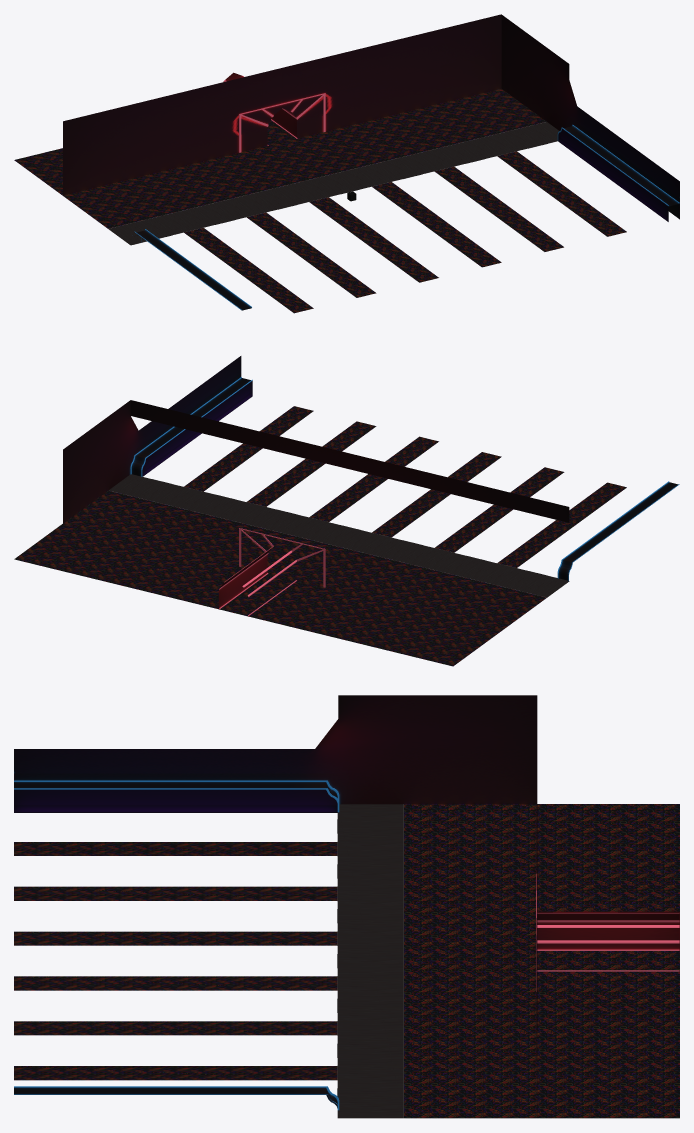
File: Room.gltf
The picture shows the model from 3 angles, top to bottom: view 1: azimuth 30°, elevation 25°; view 2: azimuth 150°, elevation 25°; view 3: azimuth 270°, elevation 25°; orthographic projection. The views are drawn at different scales.
Parts seen in each view (by area): view 1: BowlingRoomWalls, CarpetFloor, WoodFloor, BowlingRoomHump.001, CarpettingSet.002, CarpettingSet.001, CarpettingSet.003, CarpettingSet.004, CarpettingSet, CarpettingSet.005, Cube.003; view 2: CarpetFloor, BowlingRoomWalls, WoodFloor, BowlingRoomHump.001, CarpettingSet.005, CarpettingSet.001, CarpettingSet.003, CarpettingSet.004, CarpettingSet.002, CarpettingSet, Cube.003; view 3: CarpetFloor, BowlingRoomWalls, WoodFloor, BowlingRoomHump.001, CarpettingSet, CarpettingSet.001, CarpettingSet.002, CarpettingSet.003, CarpettingSet.004, CarpettingSet.005, Cube.003.
Boxes of the visible parts, x1=… form: BowlingRoomWalls: x1=63, y1=14, x2=679, y2=219; CarpetFloor: x1=14, y1=88, x2=546, y2=228; WoodFloor: x1=108, y1=122, x2=559, y2=245; BowlingRoomHump.001: x1=134, y1=125, x2=679, y2=310; CarpettingSet.002: x1=497, y1=151, x2=626, y2=236; CarpettingSet.001: x1=434, y1=166, x2=563, y2=251; CarpettingSet.003: x1=309, y1=197, x2=438, y2=282; CarpettingSet.004: x1=247, y1=212, x2=376, y2=297; CarpettingSet: x1=372, y1=182, x2=501, y2=267; CarpettingSet.005: x1=184, y1=228, x2=313, y2=313; Cube.003: x1=223, y1=76, x2=325, y2=152; CarpetFloor: x1=14, y1=490, x2=546, y2=666; BowlingRoomWalls: x1=63, y1=356, x2=569, y2=608; WoodFloor: x1=108, y1=474, x2=569, y2=597; BowlingRoomHump.001: x1=130, y1=377, x2=679, y2=581; CarpettingSet.005: x1=497, y1=482, x2=626, y2=567; CarpettingSet.001: x1=247, y1=421, x2=376, y2=506; CarpettingSet.003: x1=372, y1=452, x2=501, y2=537; CarpettingSet.004: x1=435, y1=467, x2=564, y2=552; CarpettingSet.002: x1=184, y1=406, x2=313, y2=491; CarpettingSet: x1=309, y1=436, x2=438, y2=521; Cube.003: x1=219, y1=528, x2=325, y2=616; CarpetFloor: x1=404, y1=804, x2=679, y2=1118; BowlingRoomWalls: x1=14, y1=695, x2=679, y2=1060; WoodFloor: x1=337, y1=804, x2=403, y2=1118; BowlingRoomHump.001: x1=14, y1=780, x2=339, y2=1110; CarpettingSet: x1=14, y1=976, x2=337, y2=990; CarpettingSet.001: x1=14, y1=1021, x2=337, y2=1035; CarpettingSet.002: x1=14, y1=1066, x2=337, y2=1080; CarpettingSet.003: x1=14, y1=931, x2=337, y2=945; CarpettingSet.004: x1=14, y1=886, x2=337, y2=900; CarpettingSet.005: x1=14, y1=842, x2=337, y2=855; Cube.003: x1=536, y1=874, x2=679, y2=991.
Bounding box in the file's own units: 55.14 × 11.29 × 49.39.
Materials: 10 (10 with a texture image).
